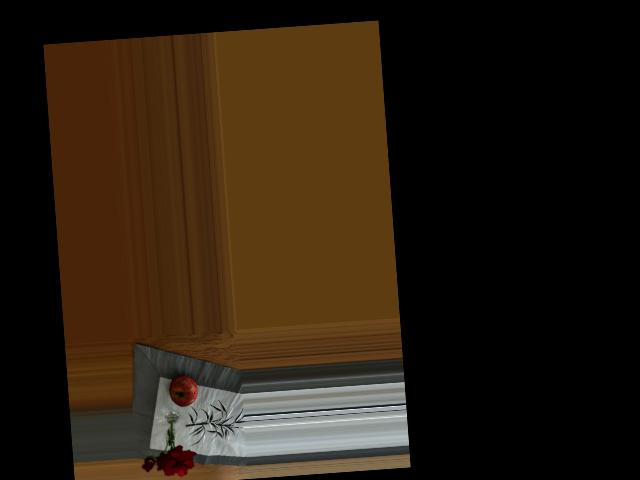apple: (164, 371, 199, 409)
